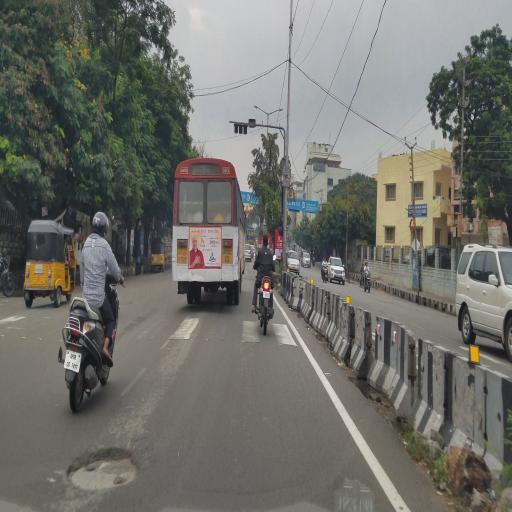street_light_0: (267, 96, 291, 124), (244, 98, 268, 124)
